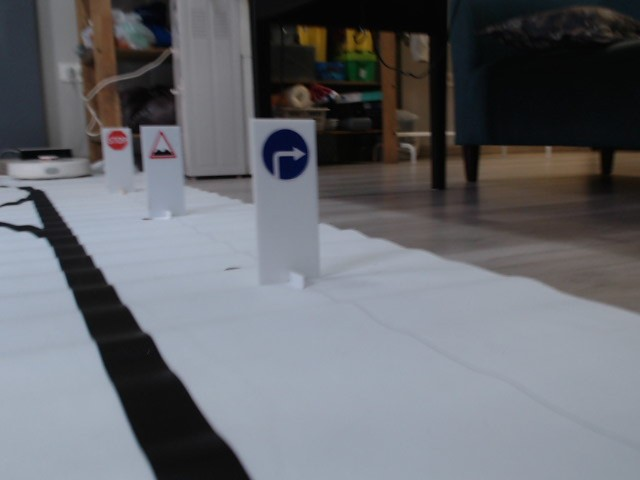Nerov: (148, 130, 176, 159)
Right: (262, 128, 309, 180)
Stop: (106, 129, 129, 150)
